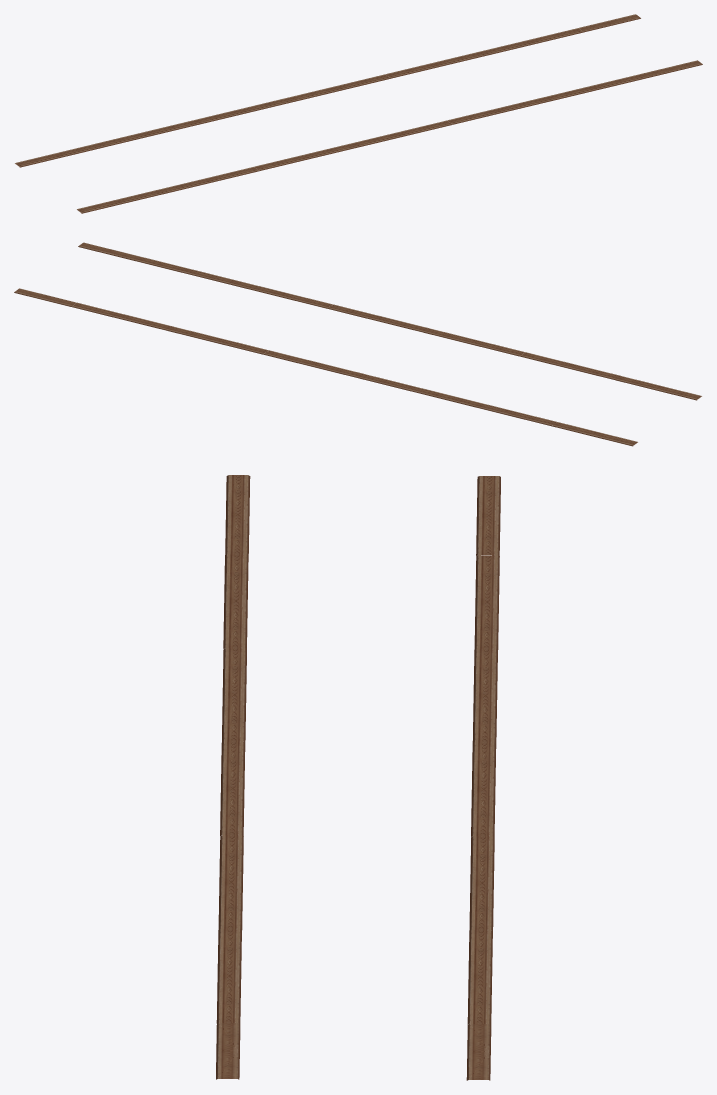
The model's file is Area_07_11.fbx.
3 renders of one model, top to bottom at view 1: azimuth 30°, elevation 25°; view 2: azimuth 150°, elevation 25°; view 3: azimuth 270°, elevation 25°, orthographic. The views are drawn at different scales.
Visible parts, largest first — view 1: Area_07_11; view 2: Area_07_11; view 3: Area_07_11.
Boxes of the visible parts, bbox=[...] form: Area_07_11: bbox=[15, 14, 702, 213]; Area_07_11: bbox=[14, 242, 701, 446]; Area_07_11: bbox=[216, 475, 500, 1080].
Size of the model in its own units: 4639 by 3.6 by 925.
